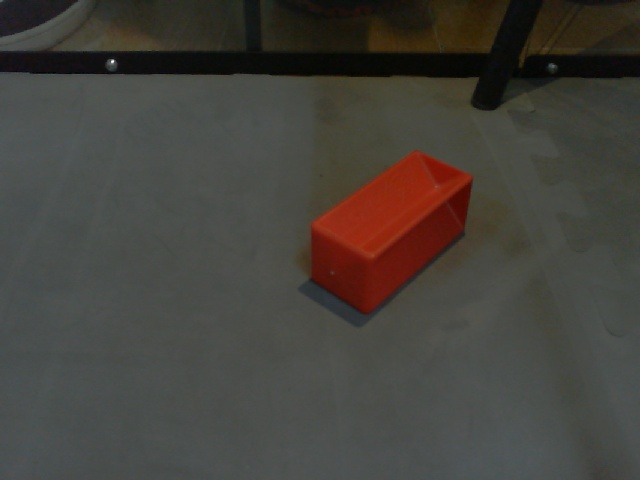RedSample: (308, 148, 474, 317)
